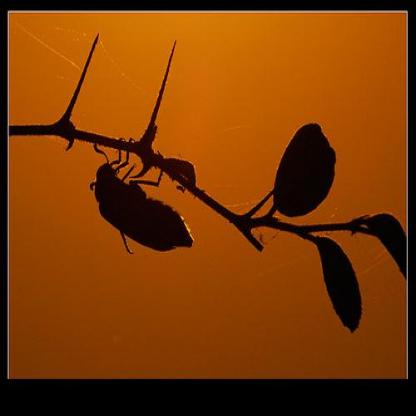beetle: (89, 141, 199, 269)
